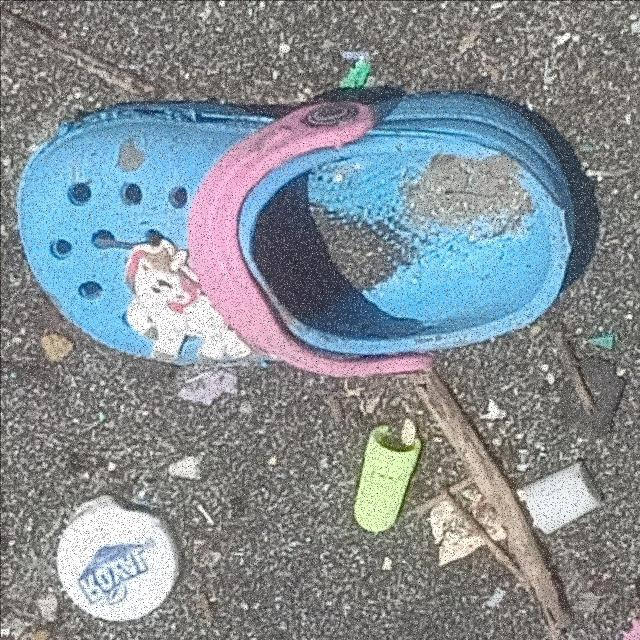plastic_waste: (55, 499, 183, 623)
rubber_waste: (16, 96, 573, 378)
